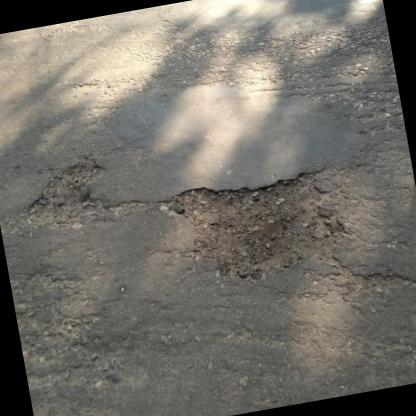pothole: (172, 157, 357, 297), (18, 155, 116, 238)
